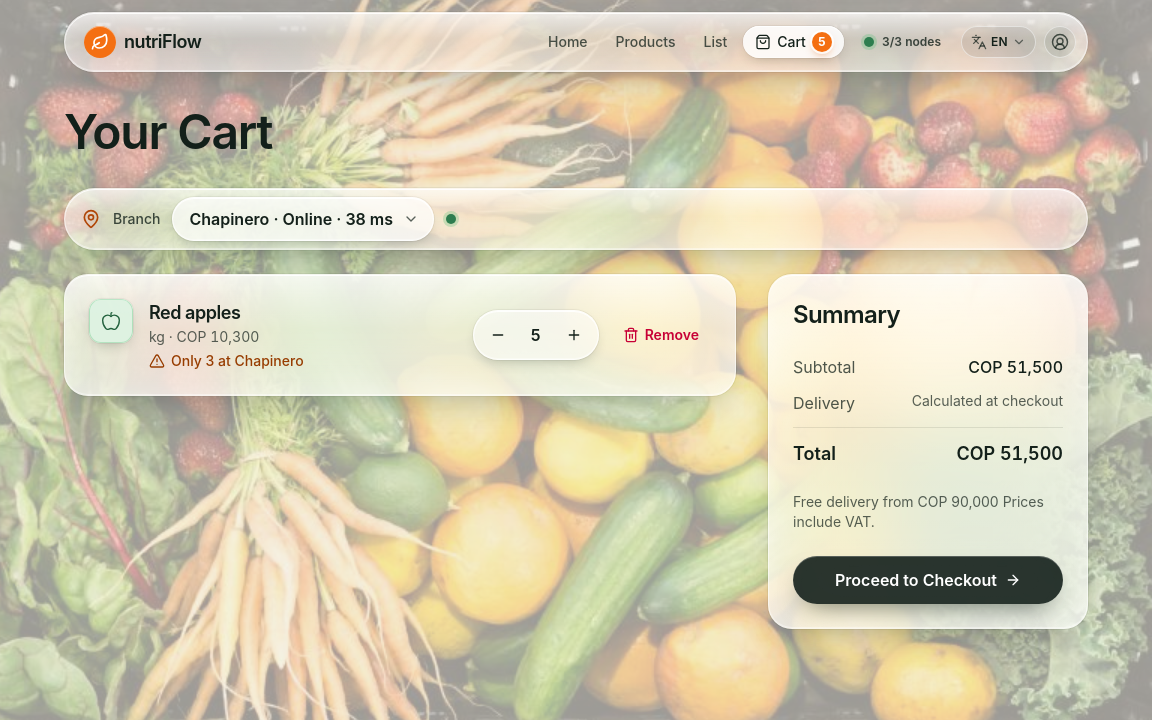
Scenario: Shopping list and cart › updates the cart and warns when the branch has less stock
Expected: the element with test id "stock-warning" reads "Only 3 at Chapinero", [171,352,304,369]
What coordinates should you click on to do the following:
click the button named "Decrease quantity of Red apples"
I would click on:
 (498, 335)
Its box is [476,313,520,357].
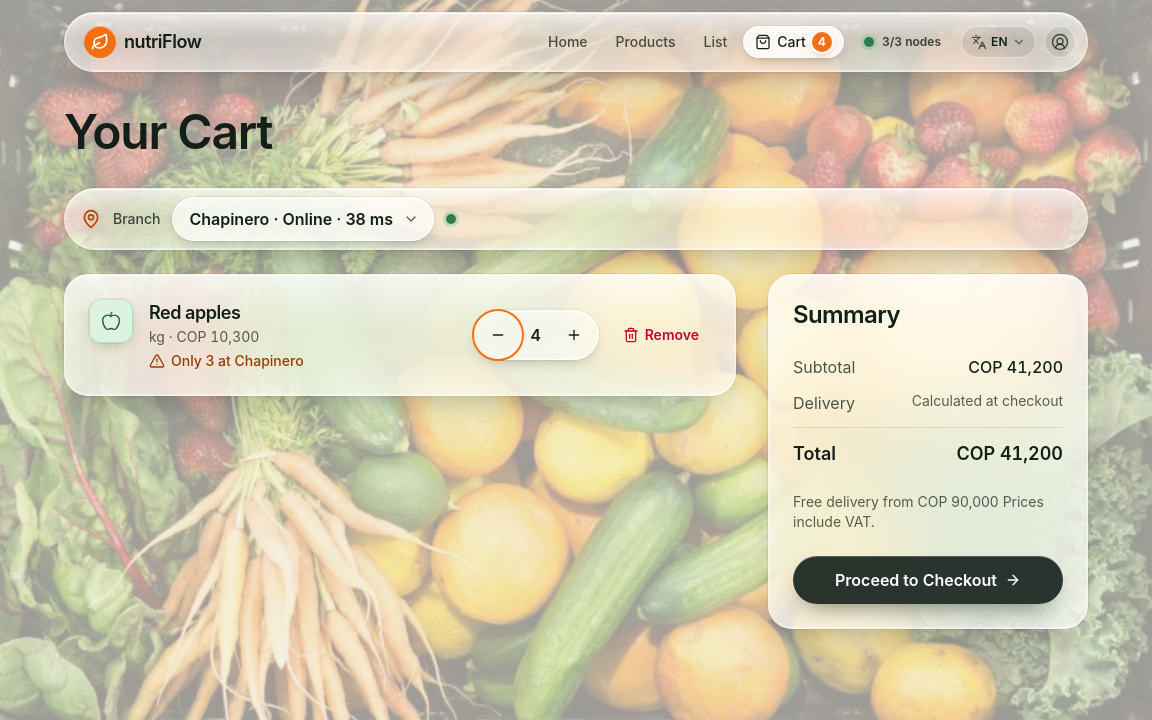
What coordinates should you click on to do the following:
click the button named "Decrease quantity of Red apples"
I would click on:
 (498, 335)
Its box is [476,313,520,357].
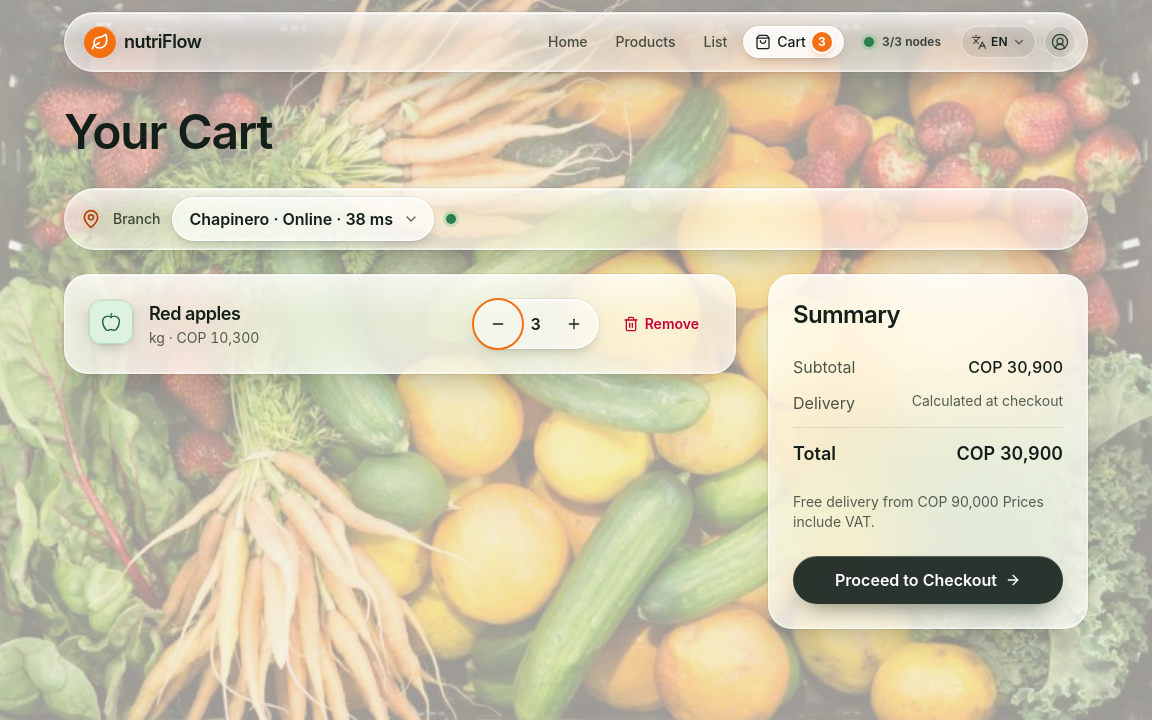
Result: the element with test id "stock-warning" is gone
What coordinates should you click on to do the following:
click the button named "Remove Red apples from cart"
I would click on:
 (661, 324)
Its box is [611,302,711,346].
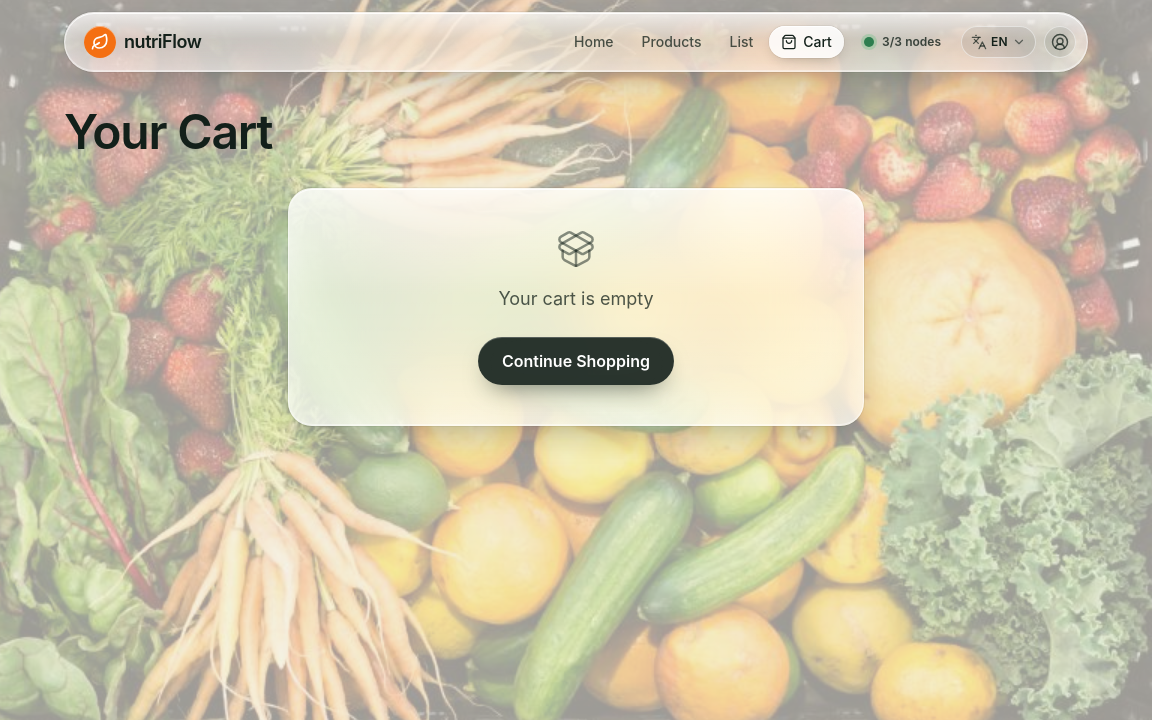
Result: the text "Your cart is empty" is shown at [498,288,654,309]
